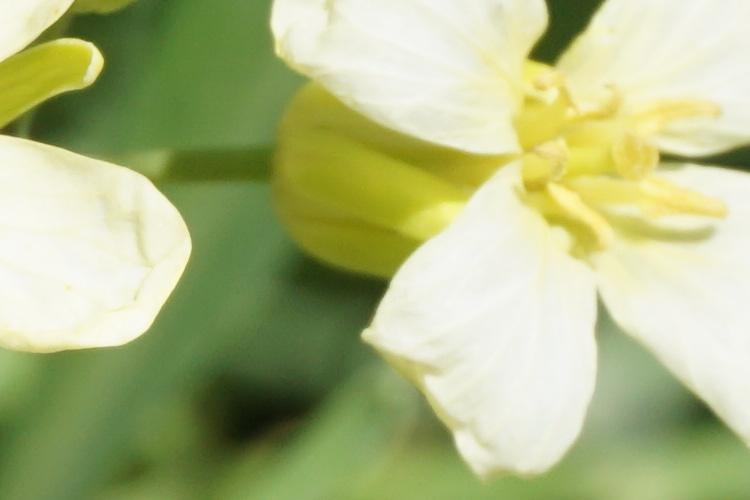white: (276, 7, 745, 452), (2, 131, 194, 353)
